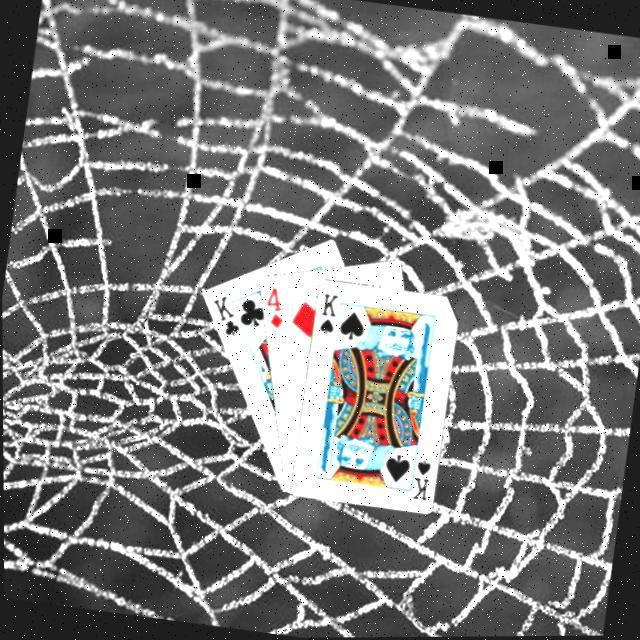4D: (258, 284, 288, 333)
KC: (204, 291, 252, 342)
KS: (402, 452, 434, 504), (314, 290, 340, 338)
